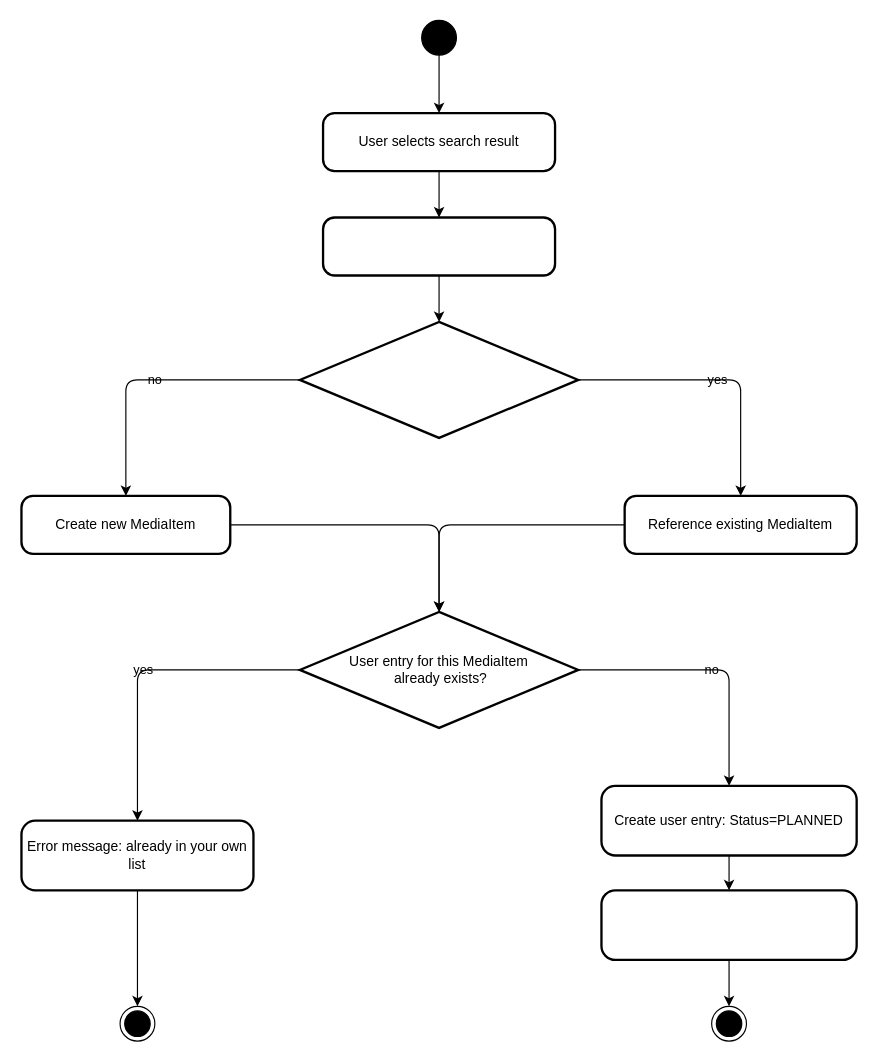
Some shapes in this 877 by 1061 pixel diagram are drawn without their labels. The centre of each missing label's shape, as x and y in pixels:
Determine external ID + source: point (438, 246)
MediaItem with this external ID already in DB?: point (438, 379)
Show confirmation, refresh list: point (728, 924)
